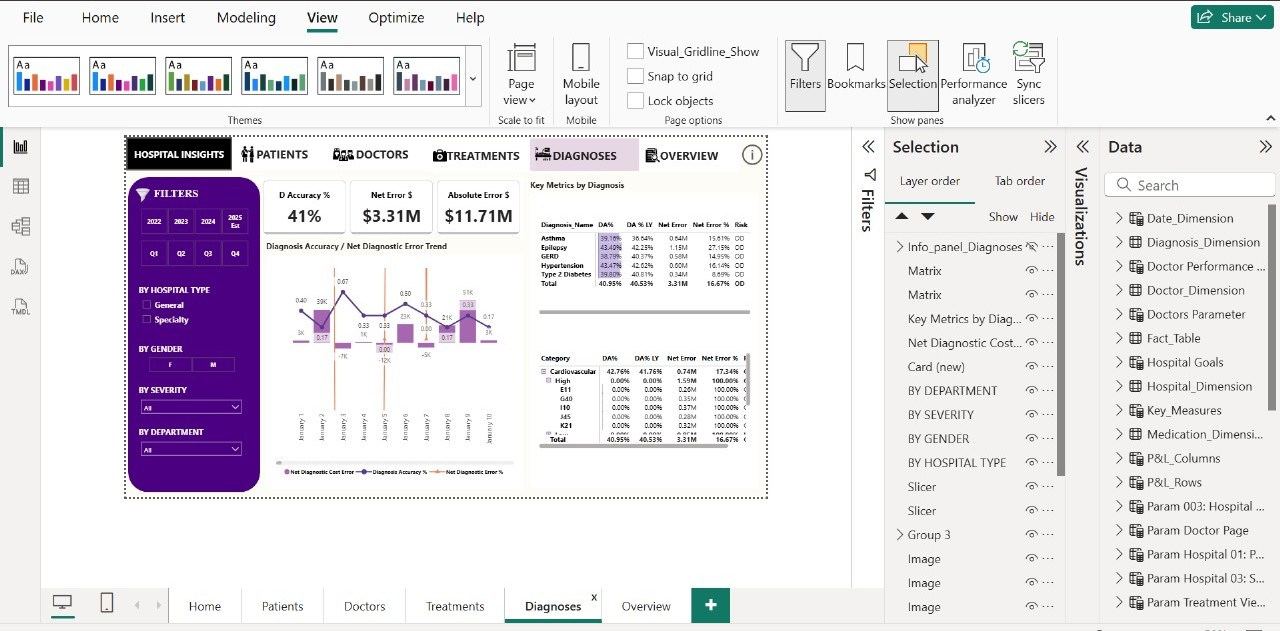

The dashboard page shown, as its layout file describes it:
{"tool":"powerbi","page":{"name":"Diagnoses","canvas":[1280,720],"ordinal":4},"visuals":[{"type":"shape","box":[3.3,80,264,630],"z":0,"group":"g2"},{"type":"image","box":[13.3,96,38.3,40],"z":0,"group":"g1"},{"type":"shape","title":"Diagnosis Accuracy / Net Diagnostic Error Trend","box":[279.9,205.2,515.4,497.9],"z":0},{"type":"actionButton","box":[0,0,212,66.7],"z":1000},{"type":"group","id":"g1","title":"Group 2","box":[13.3,96,146,40],"z":1000,"group":"g2"},{"type":"textbox","title":"FILTERS","box":[50,99.3,110,31.7],"z":1000,"group":"g1"},{"type":"actionButton","title":"Home","box":[212.3,0,200,66.7],"z":2000},{"type":"actionButton","title":"Home","box":[412.3,0,200,66.7],"z":3000},{"type":"actionButton","title":"Home","box":[607.3,1.8,211.8,68.2],"z":4000},{"type":"actionButton","title":"Home","box":[808,2,218,66],"z":5000},{"type":"actionButton","title":"Home","box":[1026.4,1.9,200,67.9],"z":6000},{"type":"actionButton","box":[1226.4,7.5,52.8,54.7],"z":7000},{"type":"image","box":[1025.9,15.9,54.1,39.8],"z":8000},{"type":"image","box":[400,7.5,69.8,52.8],"z":9000},{"type":"image","box":[607.3,14.5,38.2,45.5],"z":10000},{"type":"image","box":[808,12,52,42],"z":11000},{"type":"image","box":[211.6,11.1,62,44.5],"z":12000},{"type":"group","id":"g2","title":"Group 3","box":[3.3,80,264,630],"z":13000},{"type":"slicer","fields":{"Values":["Date_Dimension.Year_Desc"]},"box":[3.8,135.8,264.2,64.2],"z":14000},{"type":"slicer","fields":{"Values":["Date_Dimension.Quarter"]},"box":[3.8,200,264.2,64.2],"z":15000},{"type":"slicer","title":"BY HOSPITAL TYPE","fields":{"Values":["hospital_dimension_2000.Type"]},"box":[20.8,294.3,228.3,100],"z":16000},{"type":"slicer","title":"BY GENDER","fields":{"Values":["Patient_Dimension.Gender"]},"box":[20.8,411.3,220.8,64.2],"z":17000},{"type":"slicer","title":"BY SEVERITY","fields":{"Values":["Diagnosis_dimension_2000.Severity"]},"box":[20.8,494.3,220.8,64.2],"z":18000},{"type":"slicer","title":"BY DEPARTMENT","fields":{"Values":["doctor_dimension_2000.Department"]},"box":[20.8,577.4,220.8,64.2],"z":19000},{"type":"cardVisual","fields":{"Data":["Key_Measures.Diagnosis Accuracy %","Key_Measures.Net Diagnostic Cost Error","Key_Measures.Absolute Diagnostic Cost Error"]},"box":[268.8,79.5,526.5,119.3],"z":20000},{"type":"lineClusteredColumnComboChart","fields":{"Y":["Key_Measures.Net Diagnostic Cost Error"],"Y2":["Key_Measures.Diagnosis Accuracy %","Key_Measures.Net Diagnostic Error %"],"Category":["Date_Dimension.Date.Variation.Date Hierarchy.Month","Date_Dimension.Date.Variation.Date Hierarchy.Day"]},"box":[294.3,248.1,486.7,439],"z":21000},{"type":"shape","title":"Key Metrics by Diagnosis","box":[808.9,84.6,458.2,618.6],"z":22000},{"type":"pivotTable","fields":{"Rows":["Diagnosis_Dimension.Diagnosis_Name"],"Values":["Key_Measures.Diagnosis Accuracy %","Key_Measures.Diagnosis Accuracy % LY","Key_Measures.Net Diagnostic Cost Error","Key_Measures.Net Diagnostic Cost Error %","Key_Measures.Risk Code"]},"box":[819.5,160.4,433.5,199.1],"z":23000},{"type":"pivotTable","fields":{"Rows":["Diagnosis_Dimension.Category","Diagnosis_Dimension.Severity","Diagnosis_Dimension.Diagnosis_Code"],"Values":["Key_Measures.Diagnosis Accuracy %","Key_Measures.Diagnosis Accuracy % LY","Key_Measures.Net Diagnostic Cost Error","Key_Measures.Net Diagnostic Cost Error %","Key_Measures.Risk Code"]},"box":[819.5,426.5,433.5,200.9],"z":24000}]}

Visuals, with their boxes on the page's 1280x720 design canvas (x1, y1, x2, y2). These are canvas units, not pixel positions in the 1280x631 screenshot, which may show the page scaled, cropped or inside an application window:
shape: [left=3, top=80, right=267, bottom=710]
image: [left=13, top=96, right=52, bottom=136]
"Diagnosis Accuracy / Net Diagnostic Error Trend" shape: [left=280, top=205, right=795, bottom=703]
actionButton: [left=0, top=0, right=212, bottom=67]
"Group 2" group: [left=13, top=96, right=159, bottom=136]
"FILTERS" textbox: [left=50, top=99, right=160, bottom=131]
"Home" actionButton: [left=212, top=0, right=412, bottom=67]
"Home" actionButton: [left=412, top=0, right=612, bottom=67]
"Home" actionButton: [left=607, top=2, right=819, bottom=70]
"Home" actionButton: [left=808, top=2, right=1026, bottom=68]
"Home" actionButton: [left=1026, top=2, right=1226, bottom=70]
actionButton: [left=1226, top=8, right=1279, bottom=62]
image: [left=1026, top=16, right=1080, bottom=56]
image: [left=400, top=8, right=470, bottom=60]
image: [left=607, top=14, right=646, bottom=60]
image: [left=808, top=12, right=860, bottom=54]
image: [left=212, top=11, right=274, bottom=56]
"Group 3" group: [left=3, top=80, right=267, bottom=710]
slicer - Date_Dimension.Year_Desc: [left=4, top=136, right=268, bottom=200]
slicer - Date_Dimension.Quarter: [left=4, top=200, right=268, bottom=264]
"BY HOSPITAL TYPE" slicer: [left=21, top=294, right=249, bottom=394]
"BY GENDER" slicer: [left=21, top=411, right=242, bottom=476]
"BY SEVERITY" slicer: [left=21, top=494, right=242, bottom=558]
"BY DEPARTMENT" slicer: [left=21, top=577, right=242, bottom=642]
cardVisual - Key_Measures.Diagnosis Accuracy % x Key_Measures.Net Diagnostic Cost Error: [left=269, top=80, right=795, bottom=199]
lineClusteredColumnComboChart - Key_Measures.Net Diagnostic Cost Error x Key_Measures.Diagnosis Accuracy %: [left=294, top=248, right=781, bottom=687]
"Key Metrics by Diagnosis" shape: [left=809, top=85, right=1267, bottom=703]
pivotTable - Diagnosis_Dimension.Diagnosis_Name x Key_Measures.Diagnosis Accuracy %: [left=820, top=160, right=1253, bottom=360]
pivotTable - Diagnosis_Dimension.Category x Diagnosis_Dimension.Severity: [left=820, top=426, right=1253, bottom=627]
